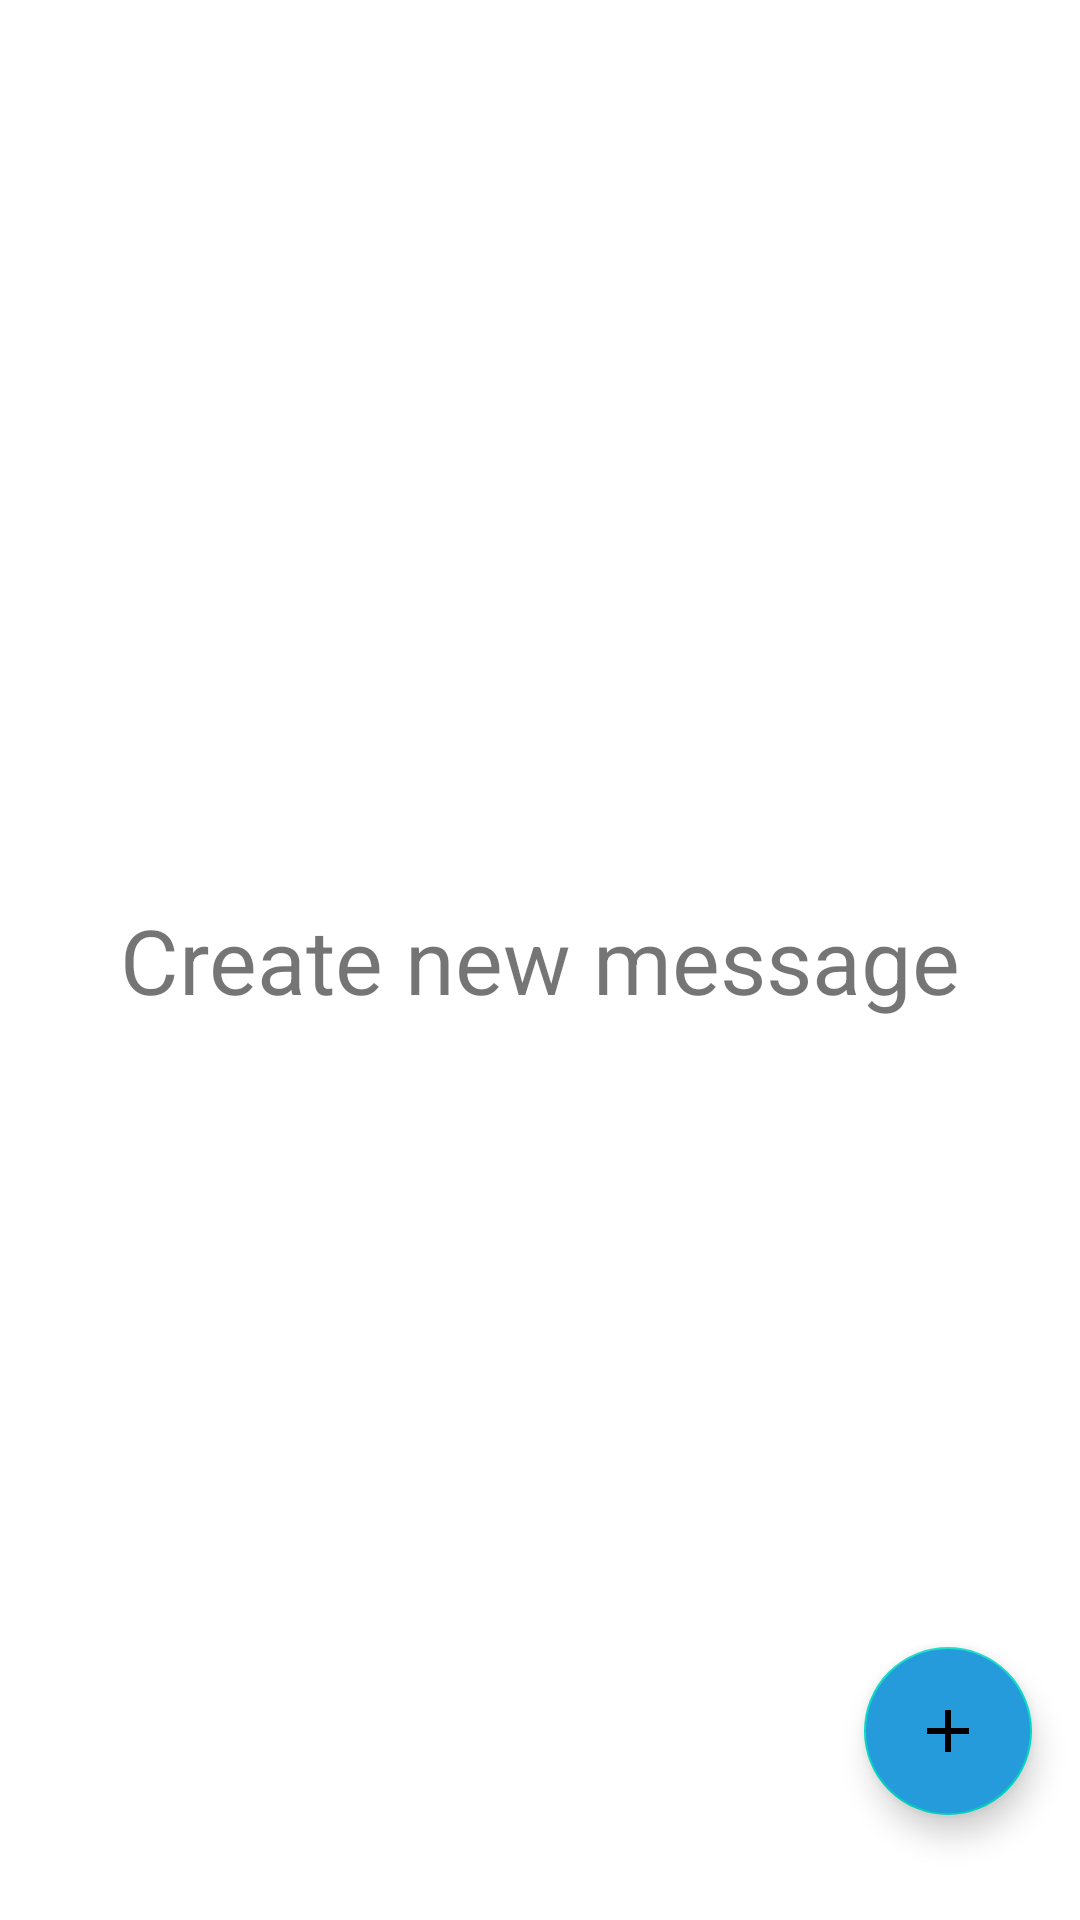

Icons on this 1080 × 1920 Android screen, each with the point to tap as [x,y]:
add: [948,1731]
